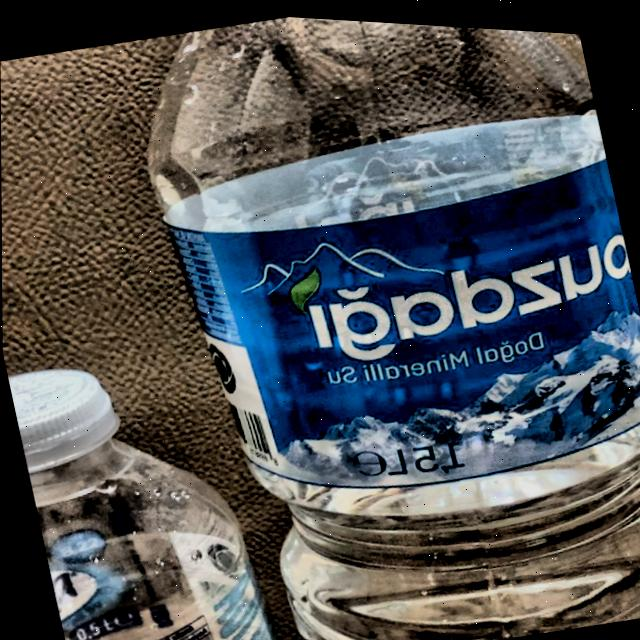plastic: (141, 13, 640, 640), (6, 366, 282, 640)
